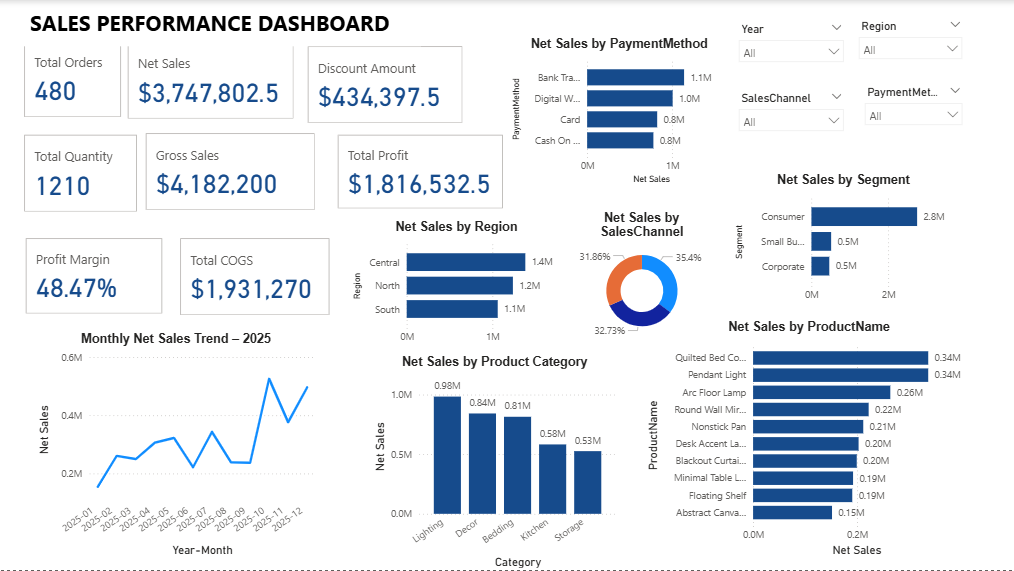

Layout of this report page (visuals, bound fields, positions):
{"tool":"powerbi","page":{"name":"Page 1","canvas":[1280,720],"ordinal":0},"visuals":[{"type":"cardVisual","fields":{"Data":["Calendar.Total Orders"]},"box":[26.5,45.4,132.3,107.7],"z":0},{"type":"cardVisual","fields":{"Data":["Calendar.Total Quantity"]},"box":[27.3,163.6,152.7,107],"z":1000},{"type":"cardVisual","fields":{"Data":["Calendar.Gross Sales"]},"box":[180.4,162.7,223.5,107.8],"z":2000},{"type":"cardVisual","fields":{"Data":["Calendar.Discount Amount"]},"box":[384.3,52.9,205.9,107.8],"z":3000},{"type":"cardVisual","fields":{"Data":["Calendar.Net Sales"]},"box":[156.9,47.1,219.6,107.8],"z":4000},{"type":"cardVisual","fields":{"Data":["Calendar.Total COGS"]},"box":[223.5,294.1,198,107.8],"z":5000},{"type":"cardVisual","fields":{"Data":["Calendar.Total Profit"]},"box":[422.2,164.8,218.5,103.7],"z":6000},{"type":"cardVisual","fields":{"Data":["Calendar.Profit Margin"]},"box":[27.5,294.1,182.4,105.9],"z":7000},{"type":"lineChart","title":"Monthly Net Sales Trend – 2025","fields":{"Category":["Calendar.Year-Month"],"Y":["Sales_Raw.Net Sales"]},"box":[43.5,417.6,359.1,287.2],"z":8000},{"type":"clusteredColumnChart","title":"Net Sales by Product Category","fields":{"Category":["Products_Raw.Category"],"Y":["Sales_Raw.Net Sales"]},"box":[466.8,446,315.6,274],"z":9000},{"type":"clusteredBarChart","fields":{"Category":["Products_Raw.ProductName"],"Y":["Sales_Raw.Net Sales"]},"box":[810.7,402.5,419.5,302.4],"z":10000},{"type":"donutChart","fields":{"Category":["Sales_Raw.SalesChannel"],"Y":["Sales_Raw.Net Sales"]},"box":[713,264.8,194.4,166.7],"z":11000},{"type":"clusteredBarChart","fields":{"Category":["Sales_Raw.PaymentMethod"],"Y":["Sales_Raw.Net Sales"]},"box":[640.7,44.4,281.5,190.7],"z":12000},{"type":"clusteredBarChart","fields":{"Category":["Customers_Raw.Segment"],"Y":["Sales_Raw.Net Sales"]},"box":[922.2,216.7,283.3,172.2],"z":13000},{"type":"slicer","fields":{"Values":["Calendar.Year"]},"box":[922.2,22.2,151.9,64.8],"z":14000},{"type":"textbox","box":[0,5.7,531,52.9],"z":15000},{"type":"slicer","fields":{"Values":["Customers_Raw.Region"]},"box":[1074.1,18.5,150,83.3],"z":16000},{"type":"slicer","fields":{"Values":["Sales_Raw.SalesChannel"]},"box":[922.2,109.3,151.9,63],"z":17000},{"type":"slicer","fields":{"Values":["Sales_Raw.PaymentMethod"]},"box":[1081.5,101.9,142.6,98.1],"z":18000},{"type":"clusteredBarChart","fields":{"Category":["Customers_Raw.Region"],"Y":["Sales_Raw.Net Sales"]},"box":[440.3,275.9,272.1,166.3],"z":19000}]}

Visuals, with their boxes in screenshot pixels (x1, y1, x2, y2), scaled from the page's 1280x720 canvas onto the 1014x571 screenshot:
cardVisual - Calendar.Total Orders: region(21, 36, 126, 121)
cardVisual - Calendar.Total Quantity: region(22, 130, 143, 215)
cardVisual - Calendar.Gross Sales: region(143, 129, 320, 215)
cardVisual - Calendar.Discount Amount: region(304, 42, 468, 127)
cardVisual - Calendar.Net Sales: region(124, 37, 298, 123)
cardVisual - Calendar.Total COGS: region(177, 233, 334, 319)
cardVisual - Calendar.Total Profit: region(334, 131, 508, 213)
cardVisual - Calendar.Profit Margin: region(22, 233, 166, 317)
"Monthly Net Sales Trend – 2025" lineChart: region(34, 331, 319, 559)
"Net Sales by Product Category" clusteredColumnChart: region(370, 354, 620, 570)
clusteredBarChart - Products_Raw.ProductName x Sales_Raw.Net Sales: region(642, 319, 975, 559)
donutChart - Sales_Raw.SalesChannel x Sales_Raw.Net Sales: region(565, 210, 719, 342)
clusteredBarChart - Sales_Raw.PaymentMethod x Sales_Raw.Net Sales: region(508, 35, 731, 186)
clusteredBarChart - Customers_Raw.Segment x Sales_Raw.Net Sales: region(731, 172, 955, 308)
slicer - Calendar.Year: region(731, 18, 851, 69)
textbox: region(0, 5, 421, 46)
slicer - Customers_Raw.Region: region(851, 15, 970, 81)
slicer - Sales_Raw.SalesChannel: region(731, 87, 851, 137)
slicer - Sales_Raw.PaymentMethod: region(857, 81, 970, 159)
clusteredBarChart - Customers_Raw.Region x Sales_Raw.Net Sales: region(349, 219, 564, 351)
